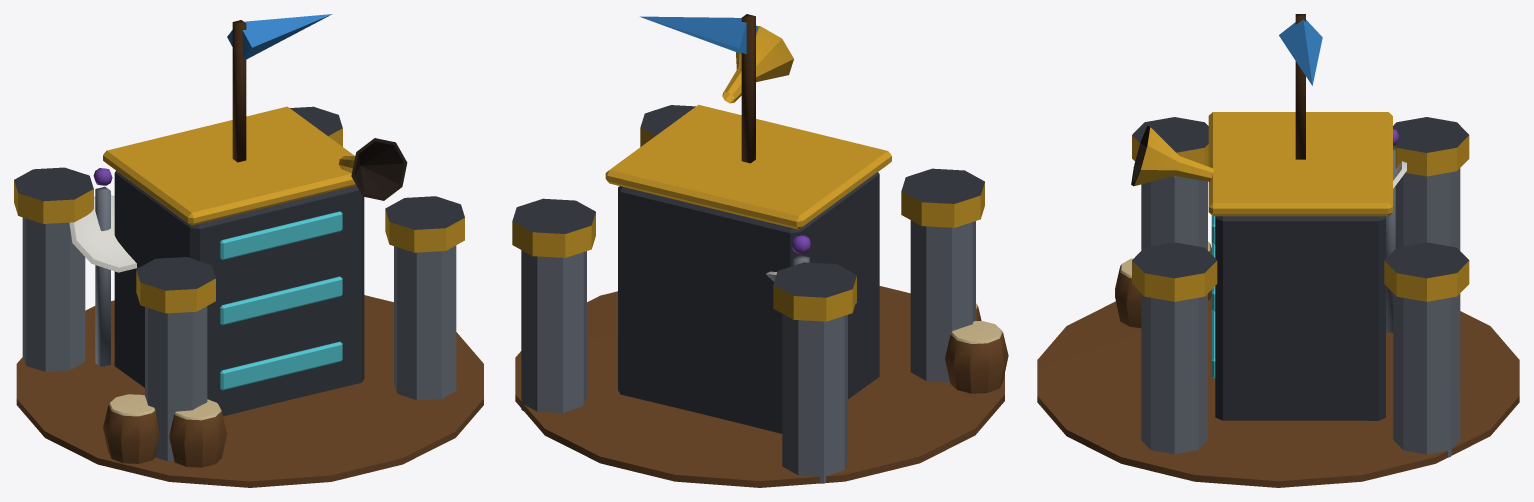
3 views of the same model, side by side, from view 1: azimuth 30°, elevation 25°; view 2: azimuth 150°, elevation 25°; view 3: azimuth 270°, elevation 25° (orthographic). The views are drawn at different scales.
Visible parts, largest first — view 1: vila_0_base; view 2: vila_0_base; view 3: vila_0_base.
Part boxes in pixels (left/top/right/bottom): vila_0_base: left=14, top=14, right=483, bottom=487; vila_0_base: left=512, top=14, right=1008, bottom=487; vila_0_base: left=1037, top=14, right=1519, bottom=487.
Bounding box in the file's own units: 1.32 × 1.1 × 1.3.
